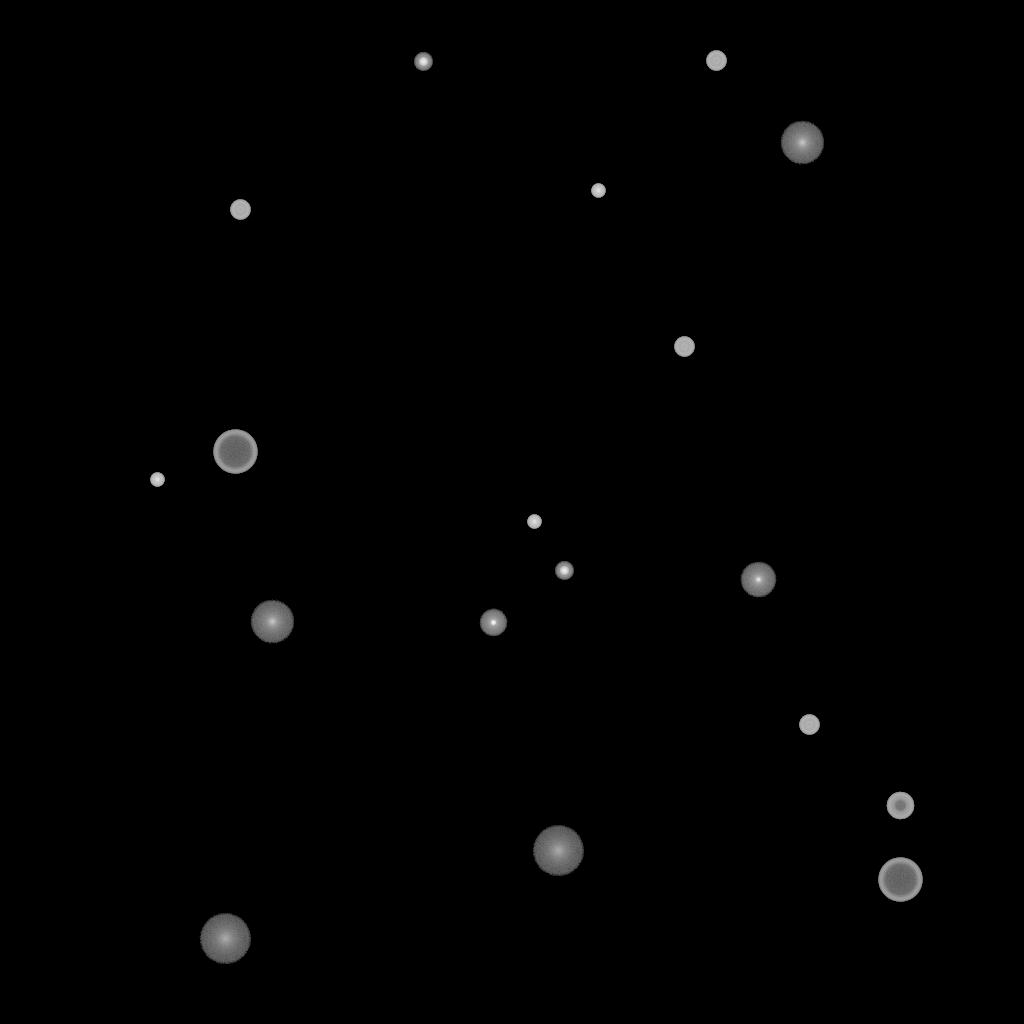depth:-10: (479, 609, 507, 637)
depth:-20: (414, 53, 432, 71), (555, 562, 573, 580)
depth:-30: (150, 473, 164, 487), (527, 515, 541, 529), (591, 184, 605, 198)
depth:-40: (706, 51, 726, 71), (230, 200, 250, 220), (799, 715, 819, 735), (674, 337, 694, 357)
depth:-50: (886, 792, 914, 820)
depth:-70: (213, 430, 257, 474), (878, 858, 922, 902)
depth:0: (740, 562, 776, 598)
depth:10: (250, 600, 294, 644), (780, 121, 824, 165)
depth:20: (199, 914, 251, 964), (532, 826, 584, 876)
